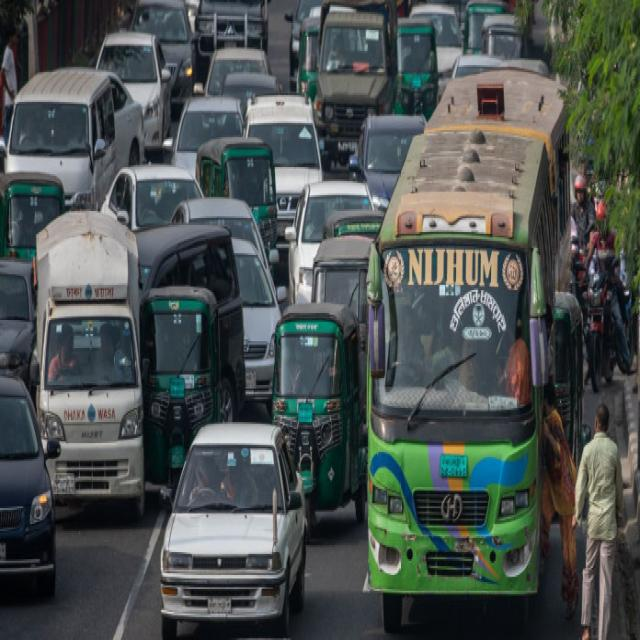car: (36, 235, 145, 511), (156, 414, 292, 625)
